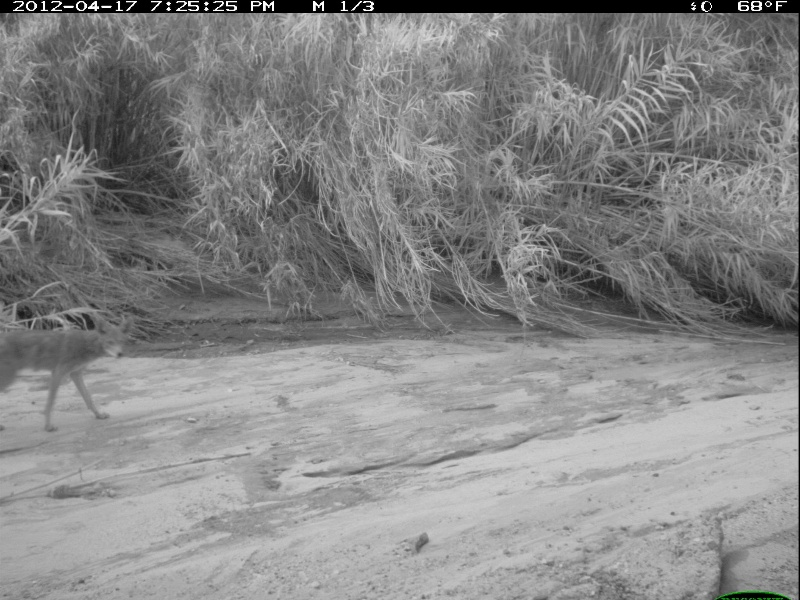coyote: (1, 310, 135, 436)
